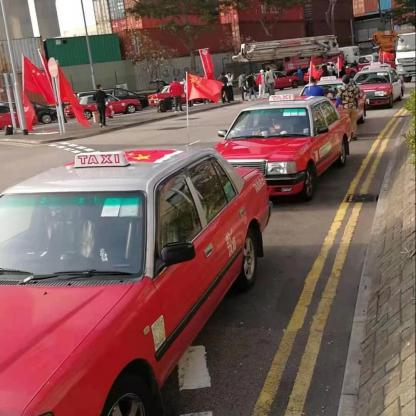taxi: (1, 144, 276, 416), (223, 91, 354, 201)
